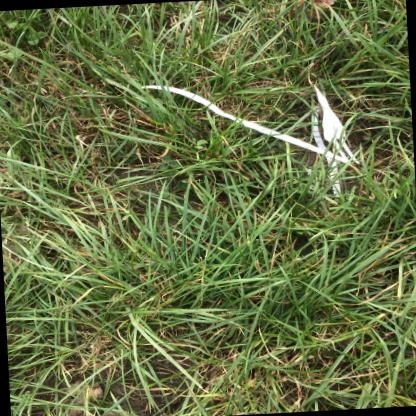Plastic: (141, 85, 348, 162), (314, 85, 359, 163), (313, 106, 340, 197)
